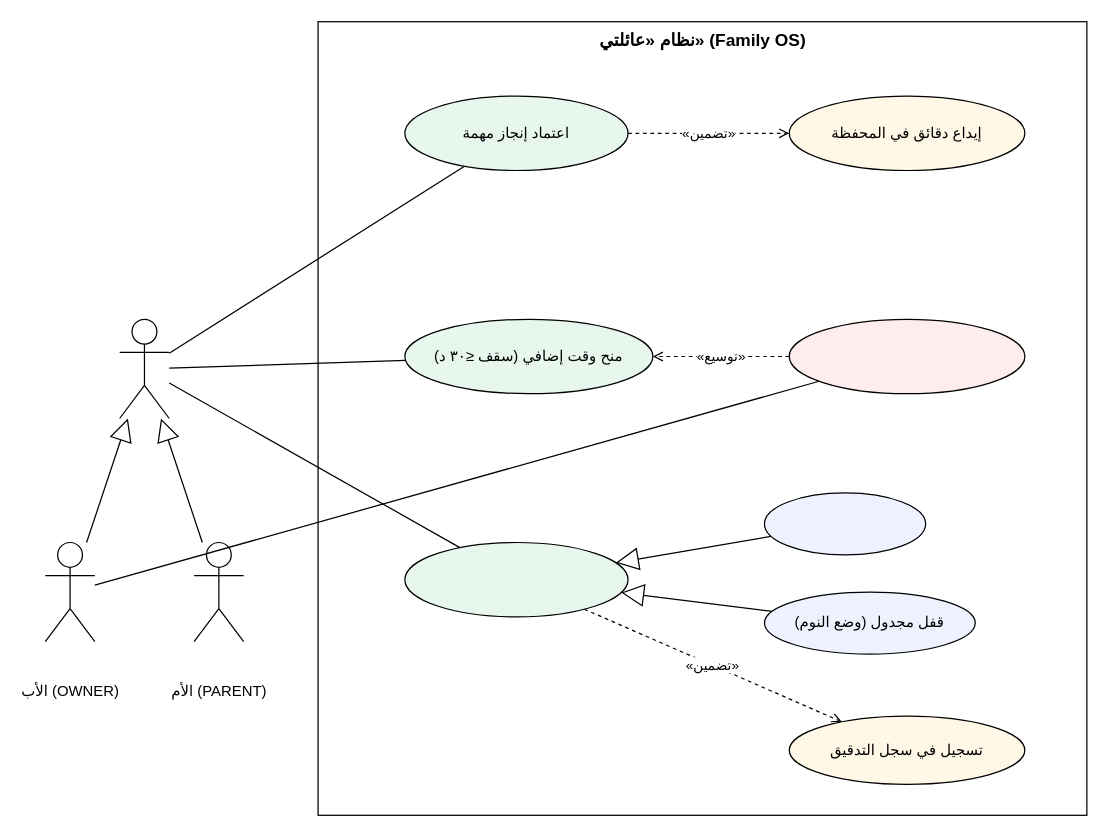
The diagram is 1109 pixels wide and 837 high, and some of its shapes have lost their labels. The shapes that lost their labels are listed below. From the top down, each one's centre as x and y in pixels, then its label:
At (143,368): "الوالد (Parent)".
At (906,356): "تجاوز السقف (الأب حصراً)".
At (844,523): "قفل فوري".
At (516,579): "قفل جهاز الابن".
